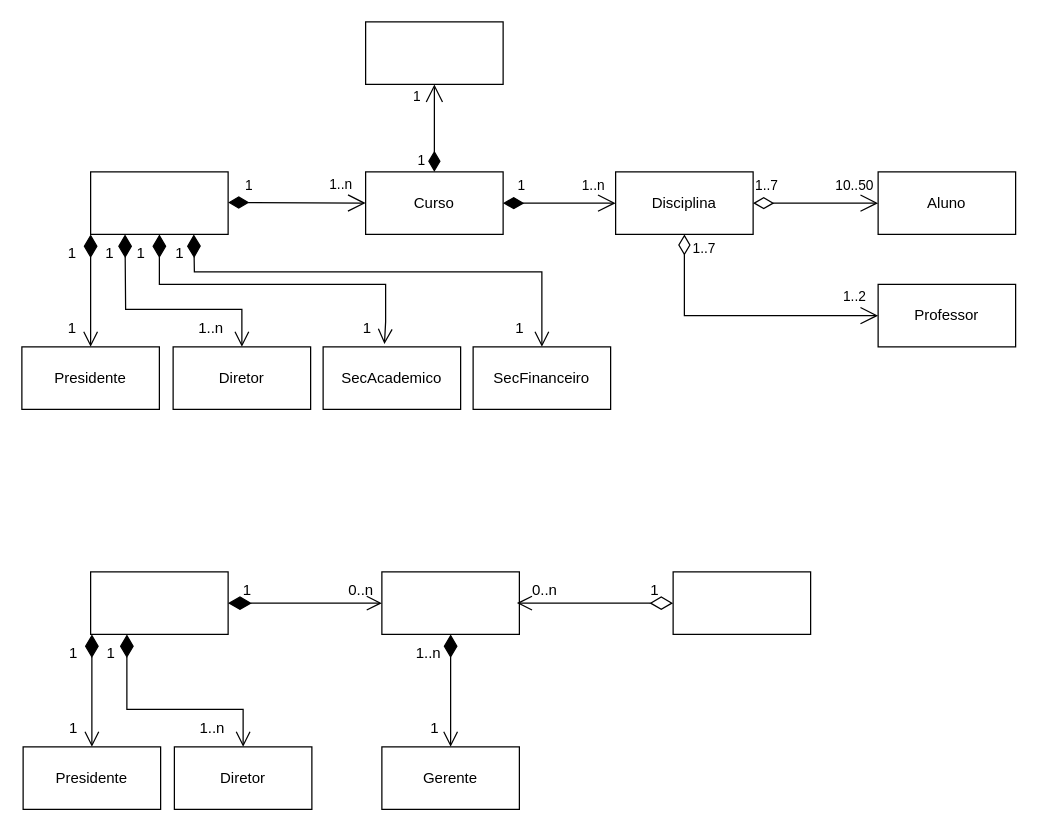
The diagram is 1038 pixels wide and 831 high, and some of its shapes have lost their labels. The shapes that lost their labels are listed below. From the top down, each one's centre as x and y in pixels, then its label:
At [433,52]: "Coordenador".
At [158,202]: "Faculdade".
At [158,602]: "Banco".
At [450,602]: "Conta".
At [741,602]: "Titular".
